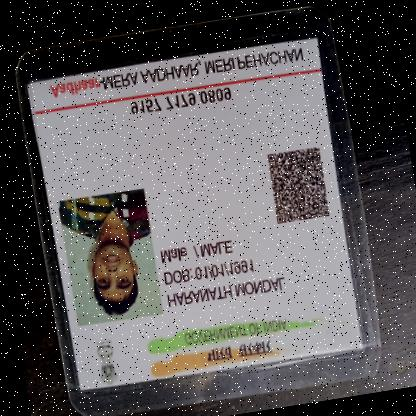aadhaar_card: (13, 4, 387, 415)
